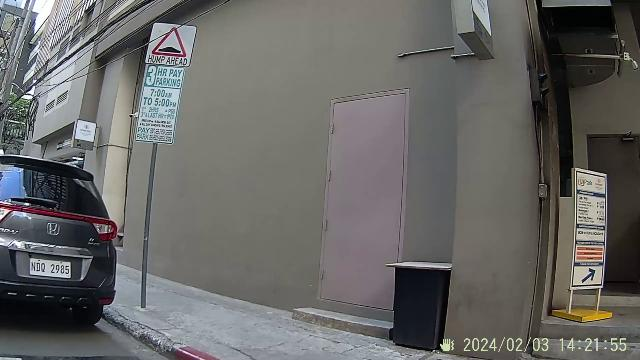car: (0, 155, 120, 319)
garbage: (386, 250, 452, 354)
street_sign: (134, 17, 196, 323), (566, 164, 614, 324)
